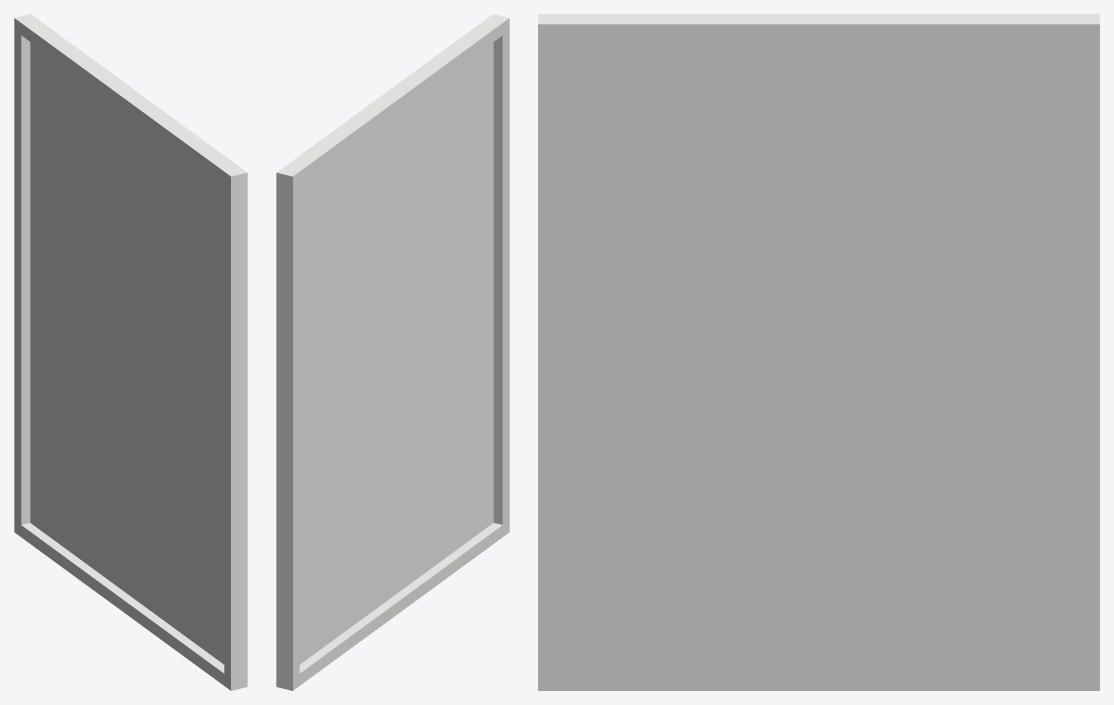
File: Wall_Picture.000.fbx
3 views of the same model, side by side, from view 1: azimuth 30°, elevation 25°; view 2: azimuth 150°, elevation 25°; view 3: azimuth 270°, elevation 25° (orthographic). The views are drawn at different scales.
Visible parts, largest first — view 1: Wall_Picture.000; view 2: Wall_Picture.000; view 3: Wall_Picture.000.
Part boxes in pixels (<box>): Wall_Picture.000: <box>14,14,247,690</box>; Wall_Picture.000: <box>276,14,509,690</box>; Wall_Picture.000: <box>538,14,1099,690</box>.
Bounding box in the file's own units: 4.99 × 149 × 114.
